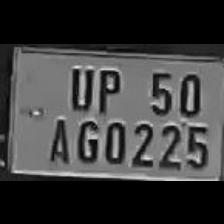0: (173, 68, 203, 116), (101, 116, 127, 164)
2: (128, 118, 154, 168), (154, 119, 180, 169)
5: (180, 119, 210, 169), (146, 66, 172, 114)
A: (43, 113, 70, 165)
G: (72, 114, 100, 164)
P: (91, 64, 123, 114)
U: (64, 62, 94, 110)
